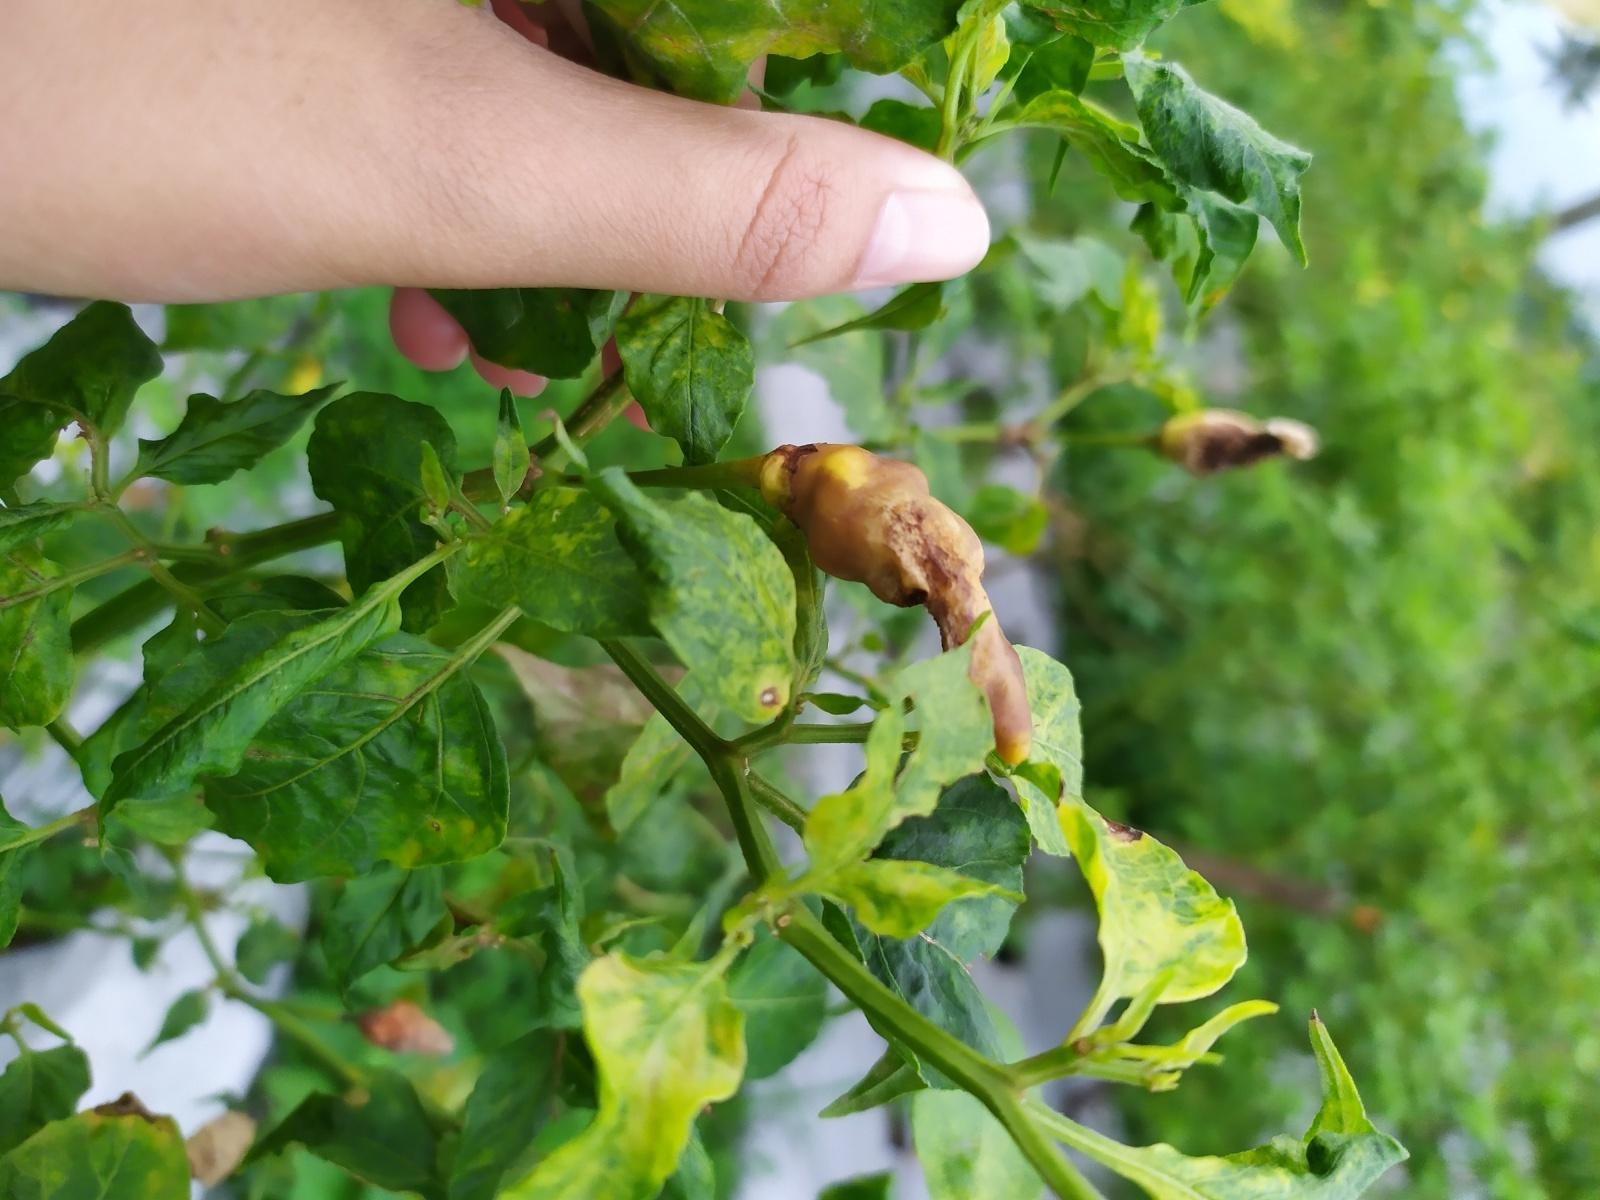antraknosa: (765, 444, 1034, 771), (1157, 407, 1325, 476)
